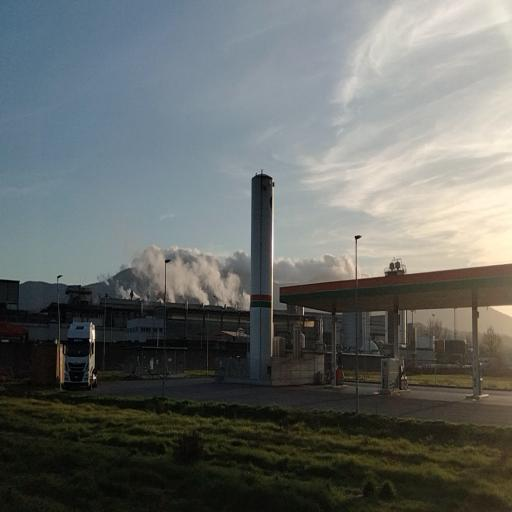leakage: (110, 228, 254, 311)
